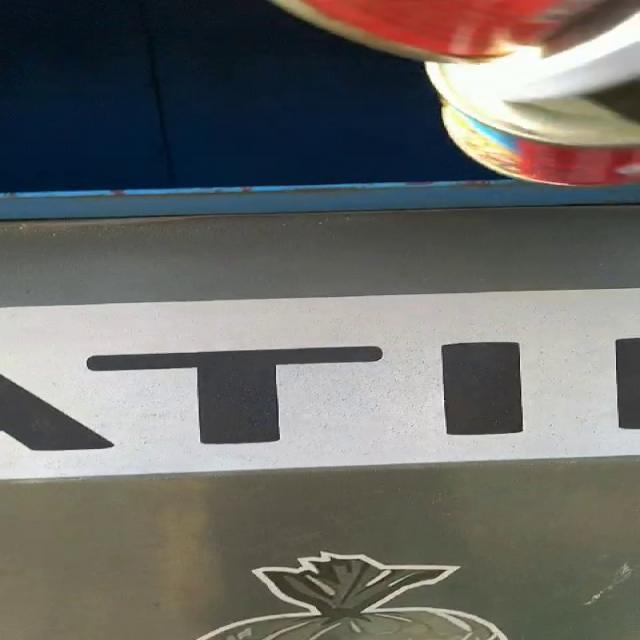Bin: (1, 0, 640, 640)
Metal: (429, 70, 640, 184)
